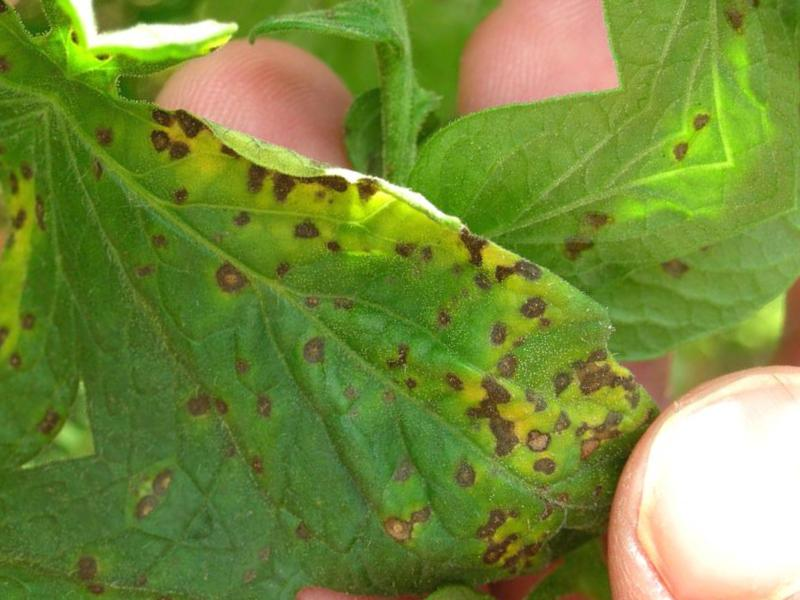Tomato Septoria leaf spot: (0, 0, 695, 600)
